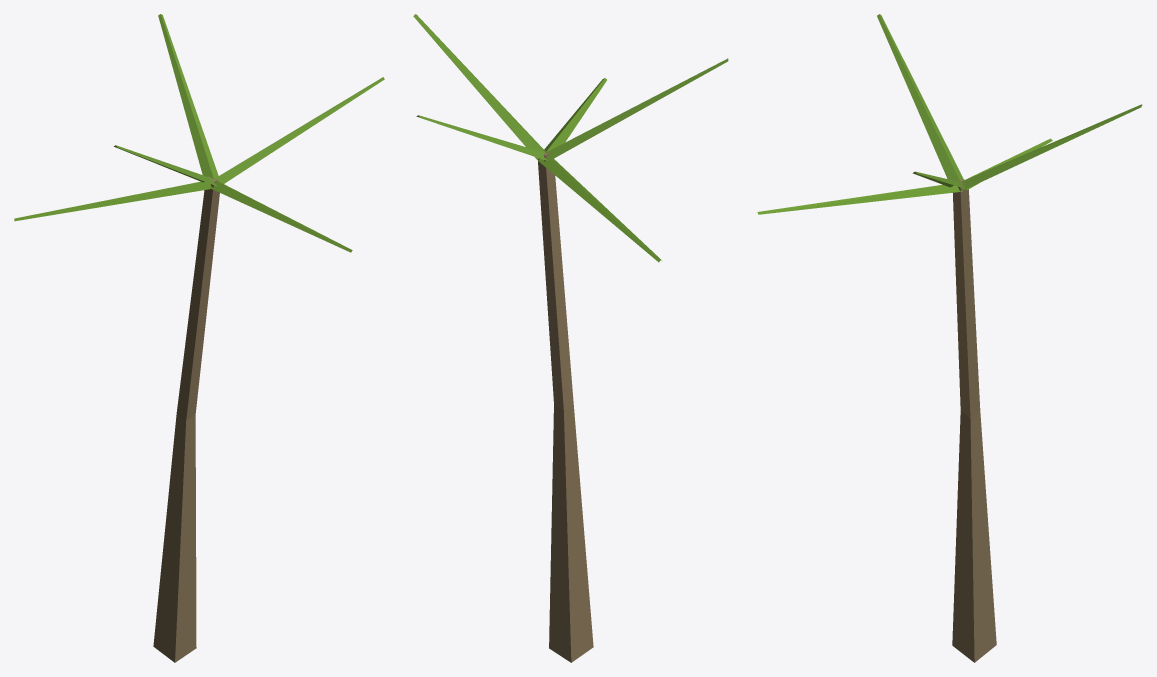
The model's file is palm_b_lod2.glb.
3 renders of one model, left to right at view 1: azimuth 30°, elevation 25°; view 2: azimuth 150°, elevation 25°; view 3: azimuth 270°, elevation 25°, orthographic. The views are drawn at different scales.
Parts seen in each view (by area): view 1: palm; view 2: palm; view 3: palm.
Part boxes in pixels (box(x1,y1,x2,y2)): palm: box(14, 14, 384, 662); palm: box(413, 14, 728, 662); palm: box(757, 14, 1142, 662).
Size of the model in its own units: 7.08 by 12.58 by 7.51.
